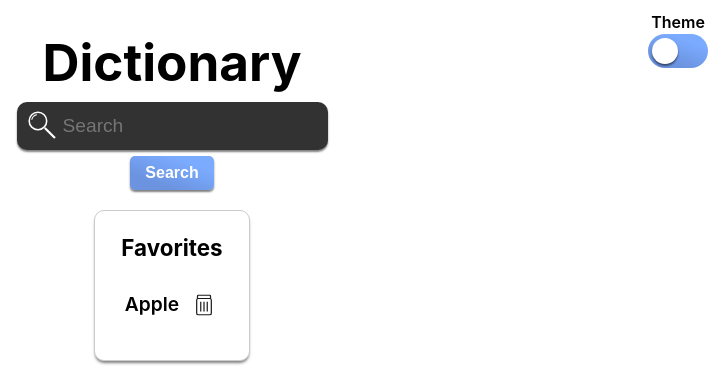
App Component › Assess if the user can properly remove saved words
The image size is (725, 382).
expect the list item "Apple" is shown: met, box [125,290,179,320]
Click the button with alt text "X": x=204, y=305 [189,290,219,320]
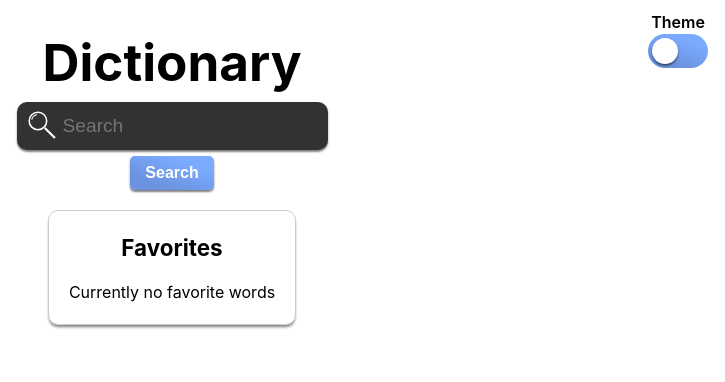
expect the list item "Apple" is gone: met
